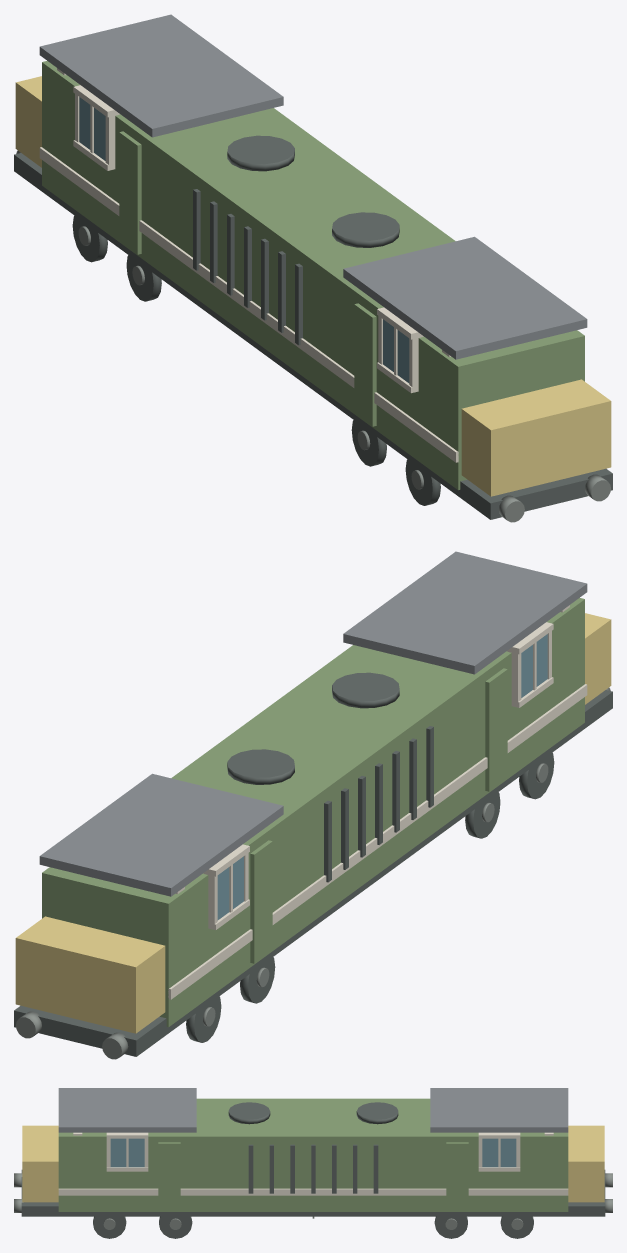
Rendered from tyne-class37_lod0.glb.
3 renders of one model, top to bottom at view 1: azimuth 30°, elevation 25°; view 2: azimuth 150°, elevation 25°; view 3: azimuth 270°, elevation 25°, orthographic. The views are drawn at different scales.
Parts seen in each view (by area): view 1: RF_EngineBody, RF_CabRoof.001, RF_CabRoof, RF_Nose.001, RF_Chassis, RF_BodyStripe.001, RF_CabDoor.003, RF_CabDoor.001, RF_Nose, RF_RoofFan.001, RF_RoofFan, RF_Window.003 (+5 smaller); view 2: RF_EngineBody, RF_CabRoof, RF_CabRoof.001, RF_Nose, RF_Chassis, RF_BodyStripe.001, RF_CabDoor.001, RF_CabDoor.003, RF_Nose.001, RF_RoofFan, RF_RoofFan.001, RF_Window.007 (+5 smaller); view 3: RF_EngineBody, RF_CabRoof.001, RF_CabRoof, RF_Chassis, RF_BodyStripe, RF_Nose.001, RF_Nose, RF_CabDoor.002, RF_CabDoor, RF_Window.004, RF_Window, RF_RoofFan.001 (+14 smaller).
Part boxes in pixels (<box>): RF_EngineBody: <box>42,61,584,490</box>; RF_CabRoof.001: <box>343,236,587,359</box>; RF_CabRoof: <box>39,14,283,137</box>; RF_Nose.001: <box>461,379,611,496</box>; RF_Chassis: <box>14,153,612,519</box>; RF_BodyStripe.001: <box>39,147,458,462</box>; RF_CabDoor.003: <box>119,131,141,254</box>; RF_CabDoor.001: <box>354,303,376,426</box>; RF_Nose: <box>15,76,41,167</box>; RF_RoofFan.001: <box>332,212,399,247</box>; RF_RoofFan: <box>227,135,294,171</box>; RF_Window.003: <box>383,319,409,383</box>; RF_EngineBody: <box>42,598,584,1027</box>; RF_CabRoof: <box>39,773,283,896</box>; RF_CabRoof.001: <box>343,551,587,674</box>; RF_Nose: <box>15,916,165,1033</box>; RF_Chassis: <box>14,690,612,1056</box>; RF_BodyStripe.001: <box>168,684,587,999</box>; RF_CabDoor.001: <box>485,668,507,791</box>; RF_CabDoor.003: <box>250,840,272,963</box>; RF_Nose.001: <box>585,613,611,704</box>; RF_RoofFan: <box>227,749,294,784</box>; RF_RoofFan.001: <box>332,672,399,708</box>; RF_Window.007: <box>217,856,243,920</box>; RF_EngineBody: <box>58,1098,568,1211</box>; RF_CabRoof.001: <box>58,1088,196,1132</box>; RF_CabRoof: <box>430,1088,568,1132</box>; RF_Chassis: <box>21,1170,605,1216</box>; RF_BodyStripe: <box>58,1188,568,1195</box>; RF_Nose.001: <box>22,1125,58,1202</box>; RF_Nose: <box>568,1125,604,1202</box>; RF_CabDoor.002: <box>158,1142,180,1210</box>; RF_CabDoor: <box>446,1142,468,1210</box>; RF_Window.004: <box>110,1138,144,1167</box>; RF_Window: <box>482,1138,516,1167</box>; RF_RoofFan.001: <box>228,1102,270,1124</box>.
Size of the model in its own units: 3.14 by 3.89 by 18.68.
